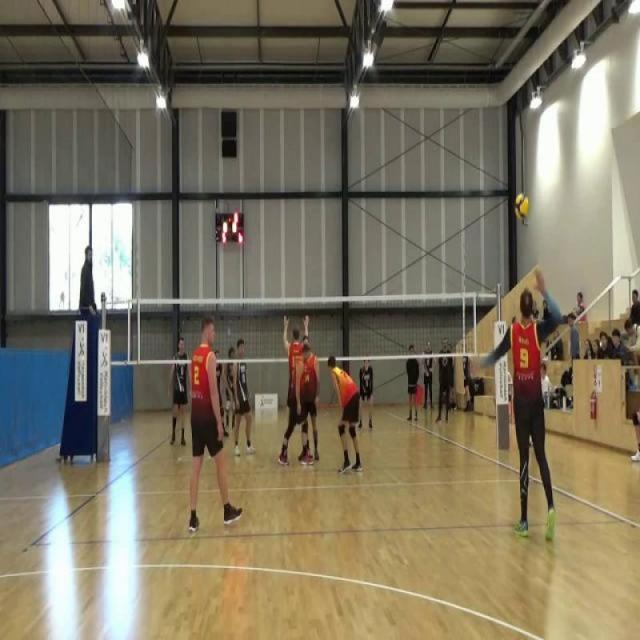volleyball: (514, 191, 530, 222)
